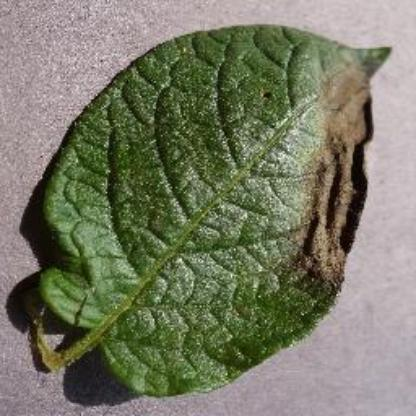Late-Blight: (29, 20, 389, 398)
